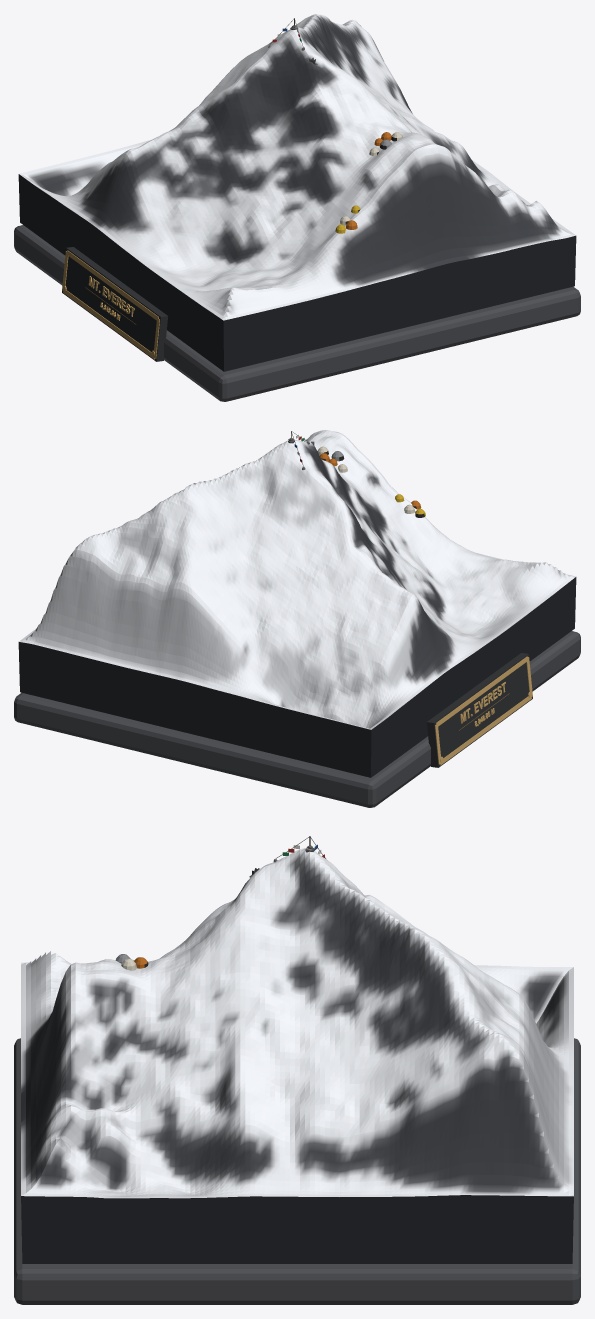
The model's file is full_route.glb.
The picture shows the model from 3 angles, top to bottom: view 1: azimuth 30°, elevation 25°; view 2: azimuth 150°, elevation 25°; view 3: azimuth 270°, elevation 25°; orthographic projection. The views are drawn at different scales.
Visible parts, largest first — view 1: FR_Terrain, FR_Plinth, FR_SignBack, FR_SignBolt_-1; view 2: FR_Terrain, FR_Plinth, FR_SignBack, FR_SignBolt_-1; view 3: FR_Terrain, FR_Plinth.
Boxes of the visible parts, x1=… form: FR_Terrain: x1=18, y1=14, x2=576, y2=371; FR_Plinth: x1=14, y1=225, x2=580, y2=401; FR_SignBack: x1=62, y1=247, x2=168, y2=361; FR_SignBolt_-1: x1=62, y1=250, x2=159, y2=359; FR_Terrain: x1=18, y1=430, x2=576, y2=777; FR_Plinth: x1=14, y1=631, x2=580, y2=807; FR_SignBack: x1=426, y1=653, x2=532, y2=767; FR_SignBolt_-1: x1=435, y1=656, x2=532, y2=765; FR_Terrain: x1=21, y1=848, x2=573, y2=1263; FR_Plinth: x1=14, y1=1038, x2=580, y2=1304.
Bounding box in the file's own units: 0.0394 × 0.0267 × 0.0388.
